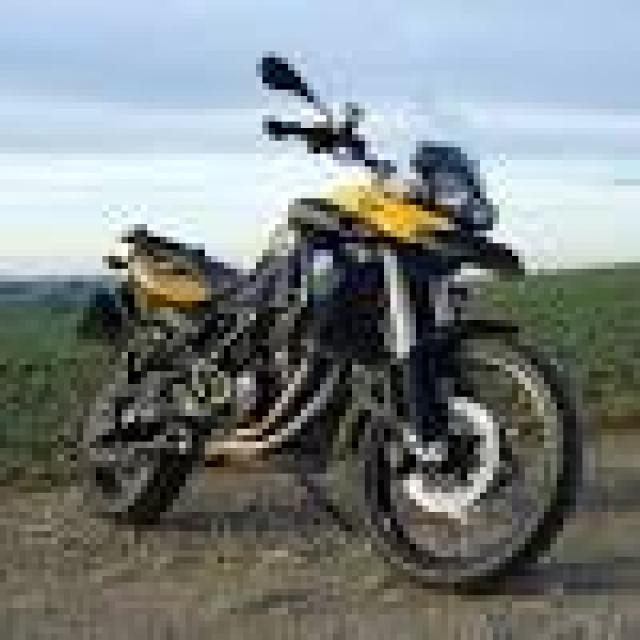Bike: (74, 51, 583, 594)
